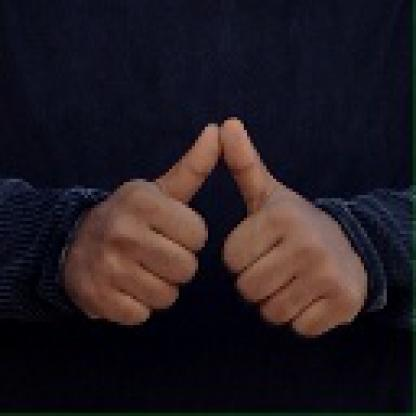A: (73, 112, 361, 340)
